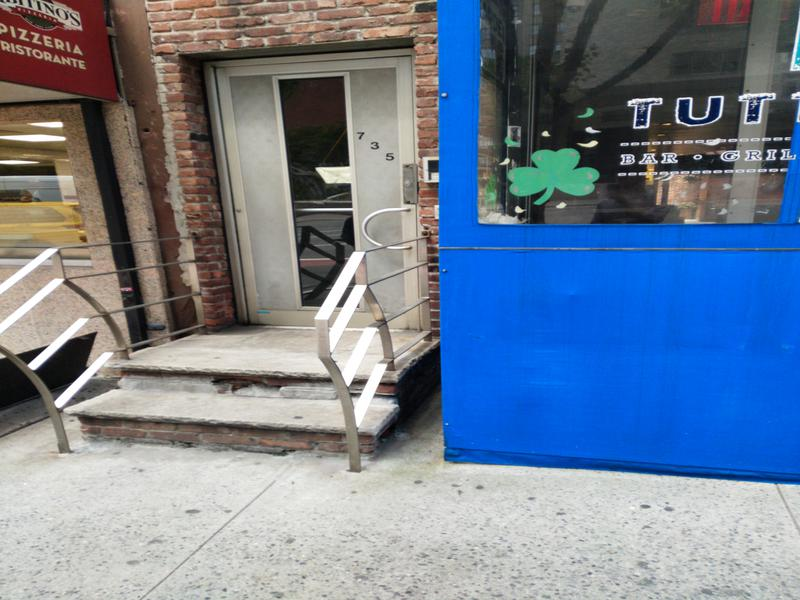door: (210, 62, 431, 333)
